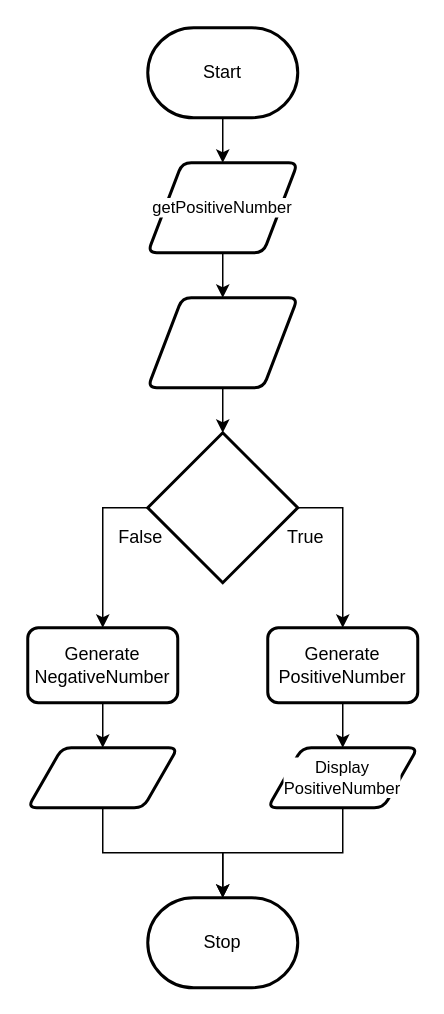
This 444x1014 diagram has some shape labels left out. The centre of each missing label's shape, as x and y in pixels:
Display NegativeNumber: the point at 102,777
getNegativeNumber: the point at 222,342
If positiveNumber == checked: the point at 222,507
